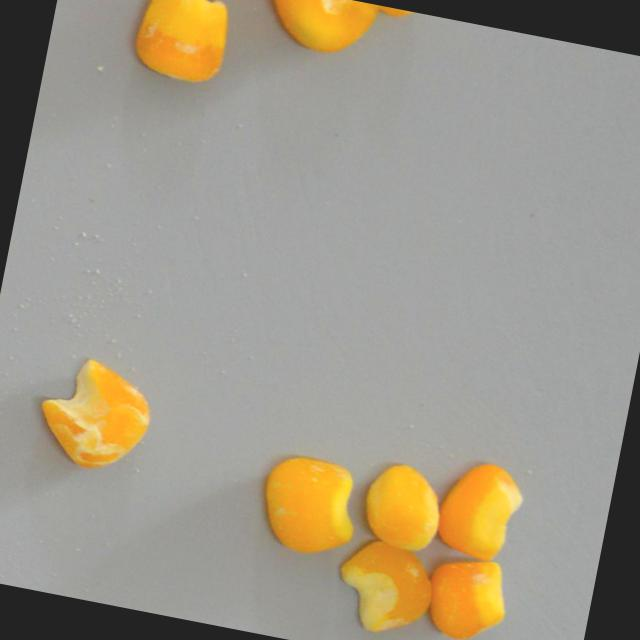pelicula: (22, 346, 166, 481), (250, 448, 369, 566), (325, 530, 445, 640), (426, 452, 531, 571), (125, 0, 236, 93), (356, 457, 450, 559), (414, 548, 518, 640), (259, 0, 382, 65), (327, 0, 428, 27)
